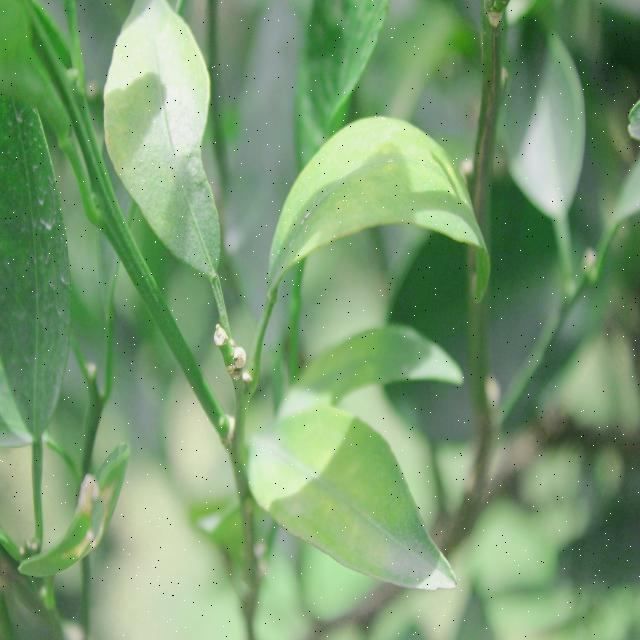greening: (250, 408, 444, 602), (107, 0, 229, 269), (272, 115, 476, 257)
